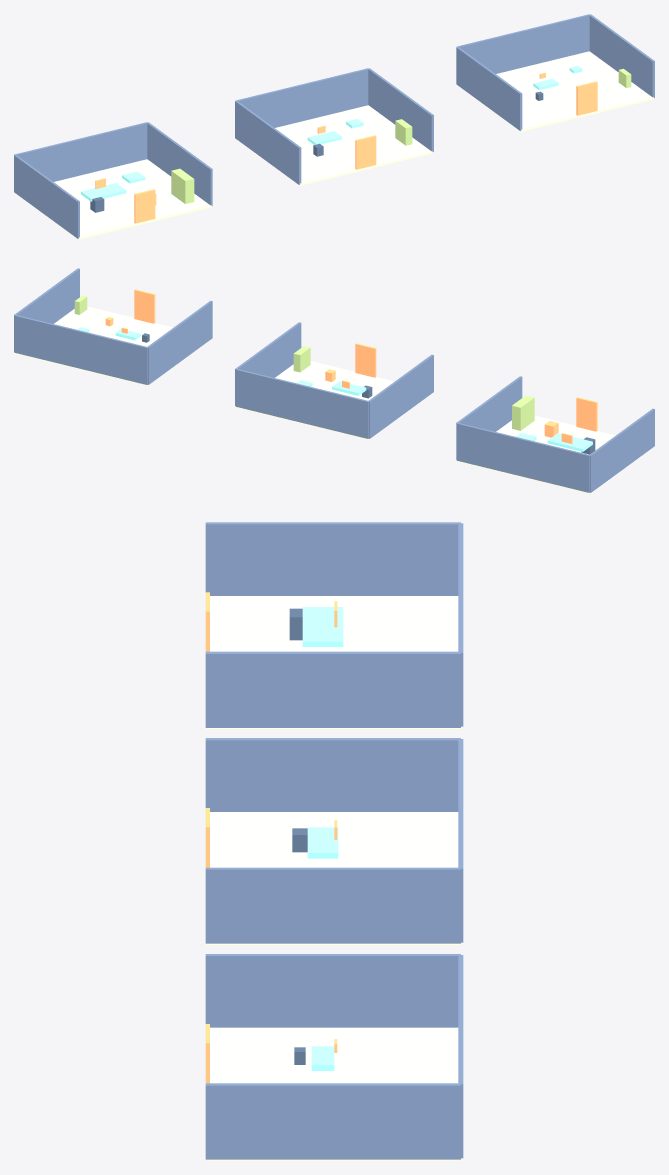
The model's file is office.packed.glb.
The picture shows the model from 3 angles, top to bottom: view 1: azimuth 30°, elevation 25°; view 2: azimuth 150°, elevation 25°; view 3: azimuth 270°, elevation 25°; orthographic projection. The views are drawn at different scales.
Parts seen in each view (by area): view 1: office_scene_LOD2_floor, office_scene_LOD1_floor, office_scene_LOD0_floor, office_scene_LOD0_wall_back, office_scene_LOD1_wall_back, office_scene_LOD2_wall_back, office_scene_LOD2_wall_left, office_scene_LOD1_wall_left, office_scene_LOD0_wall_left, office_scene_LOD2_wall_right, office_scene_LOD1_wall_right, office_scene_LOD0_wall_right (+6 smaller); view 2: office_scene_LOD2_wall_back, office_scene_LOD0_wall_back, office_scene_LOD1_wall_back, office_scene_LOD2_wall_left, office_scene_LOD0_wall_left, office_scene_LOD1_wall_left, office_scene_LOD2_floor, office_scene_LOD1_floor, office_scene_LOD2_wall_right, office_scene_LOD1_wall_right, office_scene_LOD0_wall_right, office_scene_LOD0_floor (+6 smaller); view 3: office_scene_LOD2_wall_right, office_scene_LOD0_wall_right, office_scene_LOD1_wall_right, office_scene_LOD0_wall_left, office_scene_LOD1_wall_left, office_scene_LOD2_wall_left, office_scene_LOD2_floor, office_scene_LOD1_floor, office_scene_LOD0_floor, office_scene_LOD0_desk_main, office_scene_LOD1_desk_main, office_scene_LOD0_wall_back (+2 smaller).
Part boxes in pixels (x1,y1,x2,y2): office_scene_LOD2_floor: (496,51,653,131); office_scene_LOD1_floor: (275,105,432,185); office_scene_LOD0_floor: (54,159,211,239); office_scene_LOD0_wall_back: (14,122,147,181); office_scene_LOD1_wall_back: (235,68,368,127); office_scene_LOD2_wall_back: (457,14,589,73); office_scene_LOD2_wall_left: (456,46,522,130); office_scene_LOD1_wall_left: (235,100,301,184); office_scene_LOD0_wall_left: (14,154,79,238); office_scene_LOD2_wall_right: (589,14,654,98); office_scene_LOD1_wall_right: (368,68,433,151); office_scene_LOD0_wall_right: (147,122,212,205); office_scene_LOD2_wall_back: (14,315,147,384); office_scene_LOD0_wall_back: (456,423,589,492); office_scene_LOD1_wall_back: (235,369,368,438); office_scene_LOD2_wall_left: (147,300,212,384); office_scene_LOD0_wall_left: (589,408,654,492); office_scene_LOD1_wall_left: (368,354,433,438); office_scene_LOD2_floor: (15,306,173,385); office_scene_LOD1_floor: (236,361,394,439); office_scene_LOD2_wall_right: (14,268,79,351); office_scene_LOD1_wall_right: (235,322,301,405); office_scene_LOD0_wall_right: (456,376,522,459); office_scene_LOD0_floor: (457,415,615,493); office_scene_LOD2_wall_right: (205,1083,460,1159); office_scene_LOD0_wall_right: (205,651,460,727); office_scene_LOD1_wall_right: (205,867,460,943); office_scene_LOD0_wall_left: (205,522,460,595); office_scene_LOD1_wall_left: (205,738,460,811); office_scene_LOD2_wall_left: (205,954,460,1027); office_scene_LOD2_floor: (205,1027,460,1160); office_scene_LOD1_floor: (205,812,460,944); office_scene_LOD0_floor: (205,596,460,728); office_scene_LOD0_desk_main: (302,607,343,646); office_scene_LOD1_desk_main: (307,827,338,858); office_scene_LOD0_wall_back: (458,523,463,726).
Bounding box in the file's own units: 52.2 × 3.3 × 10.1.
